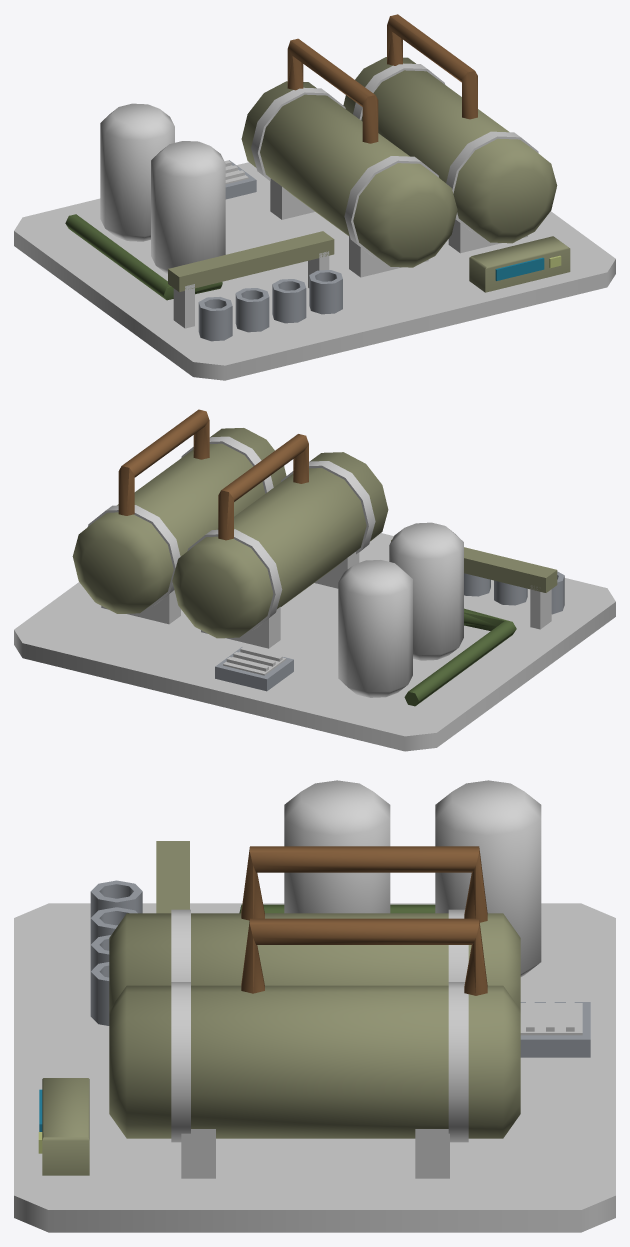
The model's file is toxic_spewer.obj.
3 renders of one model, top to bottom at view 1: azimuth 30°, elevation 25°; view 2: azimuth 150°, elevation 25°; view 3: azimuth 270°, elevation 25°, orthographic. The views are drawn at different scales.
Parts seen in each view (by area): view 1: source_component_000, source_component_001, source_component_007, source_component_013, source_component_014, source_component_023, source_component_026, source_component_004, source_component_010, source_component_035, source_component_017, source_component_019 (+12 smaller); view 2: source_component_000, source_component_001, source_component_007, source_component_014, source_component_013, source_component_010, source_component_004, source_component_035, source_component_023, source_component_030, source_component_003, source_component_002 (+8 smaller); view 3: source_component_000, source_component_007, source_component_001, source_component_014, source_component_013, source_component_010, source_component_004, source_component_026, source_component_009, source_component_008, source_component_023, source_component_030 (+9 smaller).
Boxes of the visible parts, left/top/right/bottom form: source_component_000: left=14, top=162, right=615, bottom=380; source_component_001: left=241, top=81, right=457, bottom=267; source_component_007: left=343, top=57, right=557, bottom=243; source_component_013: left=151, top=141, right=225, bottom=274; source_component_014: left=100, top=103, right=174, bottom=241; source_component_023: left=168, top=231, right=334, bottom=292; source_component_026: left=469, top=236, right=570, bottom=292; source_component_004: left=287, top=38, right=378, bottom=143; source_component_010: left=387, top=14, right=477, bottom=119; source_component_035: left=65, top=214, right=222, bottom=300; source_component_017: left=235, top=288, right=269, bottom=332; source_component_019: left=272, top=279, right=306, bottom=323; source_component_000: left=14, top=533, right=615, bottom=751; source_component_001: left=172, top=452, right=388, bottom=638; source_component_007: left=72, top=428, right=286, bottom=613; source_component_014: left=338, top=560, right=412, bottom=697; source_component_013: left=389, top=522, right=463, bottom=660; source_component_010: left=118, top=409, right=209, bottom=515; source_component_004: left=218, top=434, right=308, bottom=540; source_component_035: left=404, top=608, right=516, bottom=706; source_component_023: left=391, top=540, right=557, bottom=592; source_component_030: left=215, top=647, right=293, bottom=691; source_component_003: left=187, top=529, right=282, bottom=631; source_component_002: left=281, top=461, right=375, bottom=554; source_component_000: left=14, top=903, right=615, bottom=1232; source_component_007: left=109, top=985, right=520, bottom=1138; source_component_001: left=109, top=913, right=520, bottom=1009; source_component_014: left=435, top=780, right=541, bottom=976; source_component_013: left=284, top=780, right=390, bottom=913; source_component_010: left=241, top=918, right=487, bottom=995; source_component_004: left=241, top=846, right=487, bottom=922; source_component_026: left=42, top=1078, right=89, bottom=1175; source_component_009: left=448, top=982, right=468, bottom=1142; source_component_008: left=171, top=982, right=190, bottom=1142; source_component_023: left=156, top=841, right=189, bottom=913; source_component_030: left=520, top=1002, right=590, bottom=1057.
Bounding box in the file's own units: 5.86 × 2.27 × 4.86.
